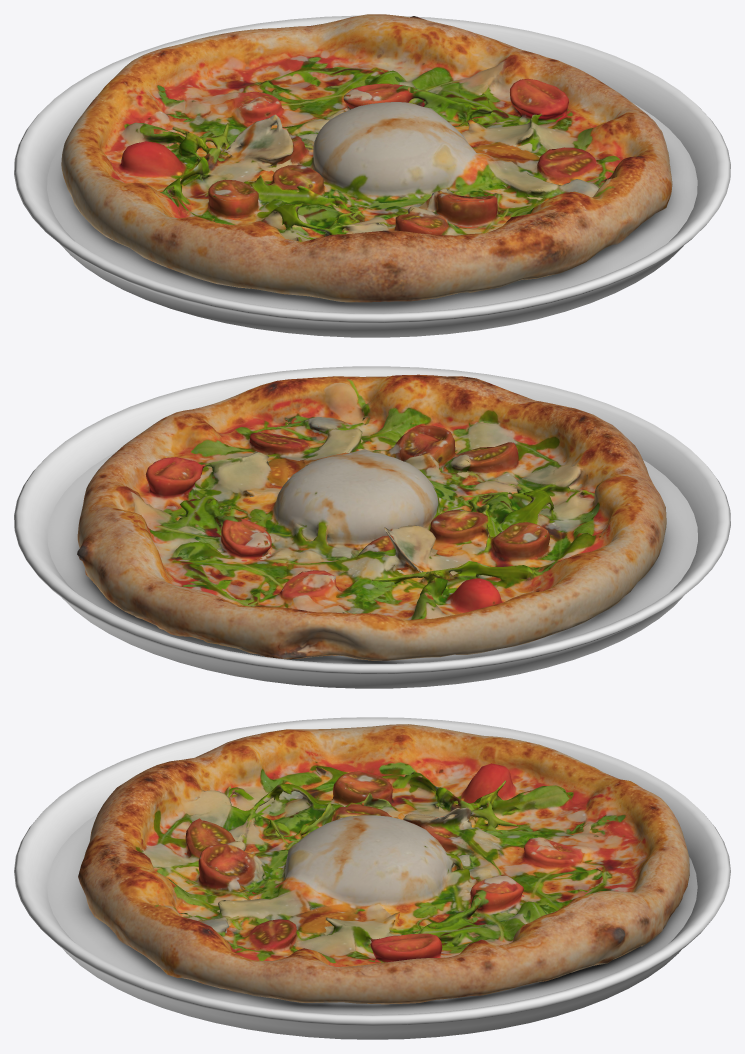
The model's file is 08_Pizza.glb.
The picture shows the model from 3 angles, top to bottom: view 1: azimuth 30°, elevation 25°; view 2: azimuth 150°, elevation 25°; view 3: azimuth 270°, elevation 25°; orthographic projection.
Visible parts, largest first — view 1: Principal, Plate; view 2: Principal, Plate; view 3: Principal, Plate.
Part boxes in pixels (x1=…): Principal: x1=61, y1=14, x2=672, y2=302; Plate: x1=14, y1=15, x2=730, y2=337; Principal: x1=77, y1=374, x2=666, y2=660; Plate: x1=14, y1=366, x2=730, y2=688; Principal: x1=78, y1=724, x2=689, y2=1004; Plate: x1=14, y1=717, x2=730, y2=1039.
Bounding box in the file's own units: 0.5331 × 0.0642 × 0.5331.
2 materials, 2 textured.
